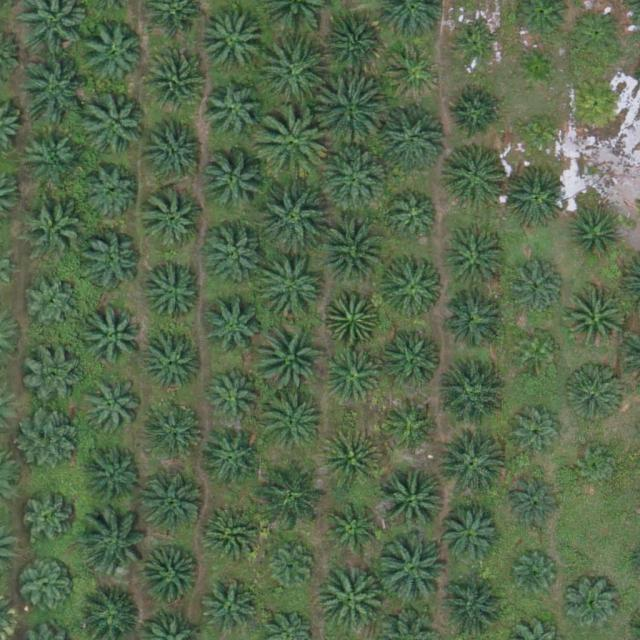Healthy: (81, 510, 152, 581), (256, 38, 327, 109), (377, 538, 448, 608), (315, 565, 385, 636), (259, 458, 330, 528), (259, 255, 330, 325), (259, 182, 329, 253), (257, 109, 327, 180), (322, 143, 392, 214), (381, 466, 451, 537), (378, 102, 448, 173), (435, 359, 505, 430), (436, 430, 506, 501), (17, 55, 87, 125), (259, 389, 329, 459), (256, 320, 326, 390), (314, 77, 384, 147), (317, 215, 387, 285), (22, 343, 85, 406), (85, 305, 148, 368), (142, 472, 205, 535), (200, 12, 263, 75), (204, 81, 267, 144), (320, 429, 383, 492), (382, 331, 445, 394), (445, 231, 508, 294), (444, 288, 507, 351), (502, 168, 565, 231), (564, 288, 627, 351), (440, 507, 502, 570), (199, 504, 261, 567), (140, 546, 203, 608), (21, 125, 83, 188), (23, 194, 85, 257), (21, 408, 83, 471), (82, 21, 144, 84), (85, 95, 147, 158), (79, 231, 142, 293), (81, 377, 143, 440), (84, 445, 146, 508), (142, 332, 204, 395), (143, 189, 205, 252), (144, 49, 206, 112), (203, 149, 265, 212), (202, 223, 265, 285), (200, 297, 262, 360), (202, 429, 264, 492), (382, 254, 444, 317), (565, 362, 627, 425), (147, 401, 209, 463), (144, 261, 206, 323), (148, 118, 210, 180), (323, 15, 385, 77), (444, 145, 506, 207), (266, 540, 321, 595), (205, 583, 260, 638), (22, 495, 77, 550), (20, 563, 75, 618), (569, 6, 624, 61), (26, 277, 81, 332), (328, 348, 383, 403), (325, 504, 380, 559), (386, 394, 441, 449), (389, 191, 444, 246), (448, 85, 503, 140), (507, 478, 562, 533), (511, 404, 566, 459), (568, 208, 623, 263), (565, 576, 619, 631), (387, 45, 441, 100), (85, 165, 139, 220), (206, 368, 260, 423), (326, 290, 380, 345), (510, 258, 564, 313)
Small: (514, 44, 561, 92), (455, 26, 502, 73), (512, 553, 559, 600), (514, 329, 561, 376), (576, 444, 623, 491), (516, 112, 563, 159)
Yellow: (569, 76, 624, 132)
